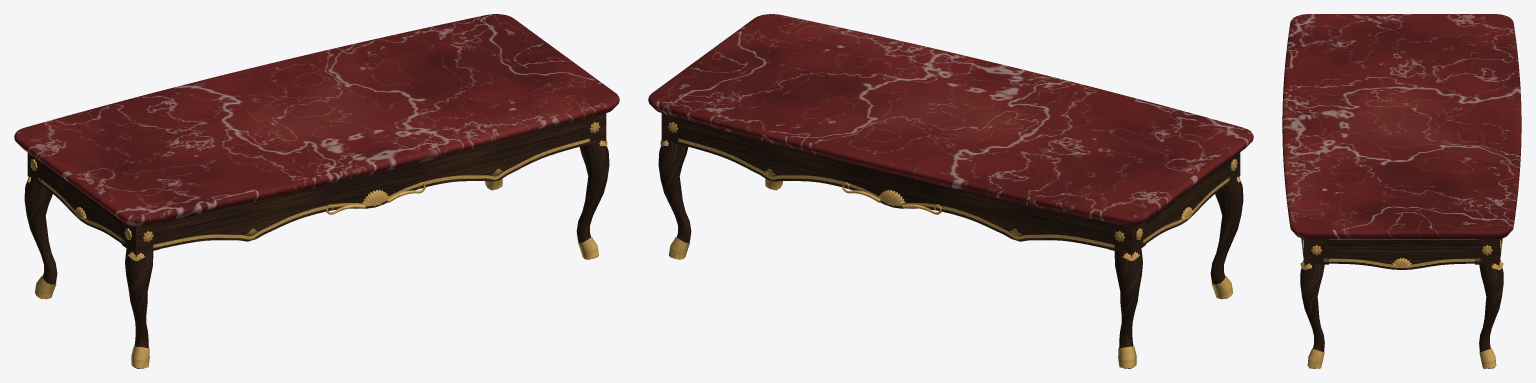
Rendered from antique_coffee_table.glb.
3 views of the same model, side by side, from view 1: azimuth 30°, elevation 25°; view 2: azimuth 150°, elevation 25°; view 3: azimuth 270°, elevation 25° (orthographic). The views are drawn at different scales.
Parts seen in each view (by area): view 1: Table_Marble, Table_Walnut, Table_Gilding; view 2: Table_Marble, Table_Walnut, Table_Gilding; view 3: Table_Marble, Table_Walnut, Table_Gilding.
Boxes of the visible parts, x1=… form: Table_Marble: x1=14, y1=14, x2=619, y2=226; Table_Walnut: x1=24, y1=113, x2=609, y2=368; Table_Gilding: x1=27, y1=122, x2=607, y2=368; Table_Marble: x1=648, y1=14, x2=1253, y2=226; Table_Walnut: x1=658, y1=113, x2=1243, y2=368; Table_Gilding: x1=660, y1=122, x2=1240, y2=368; Table_Marble: x1=1282, y1=14, x2=1521, y2=239; Table_Walnut: x1=1300, y1=238, x2=1503, y2=368; Table_Gilding: x1=1300, y1=239, x2=1503, y2=368.
Bounding box in the file's own units: 1.46 × 0.4546 × 0.673.
Materials: 3 (3 with a texture image).
